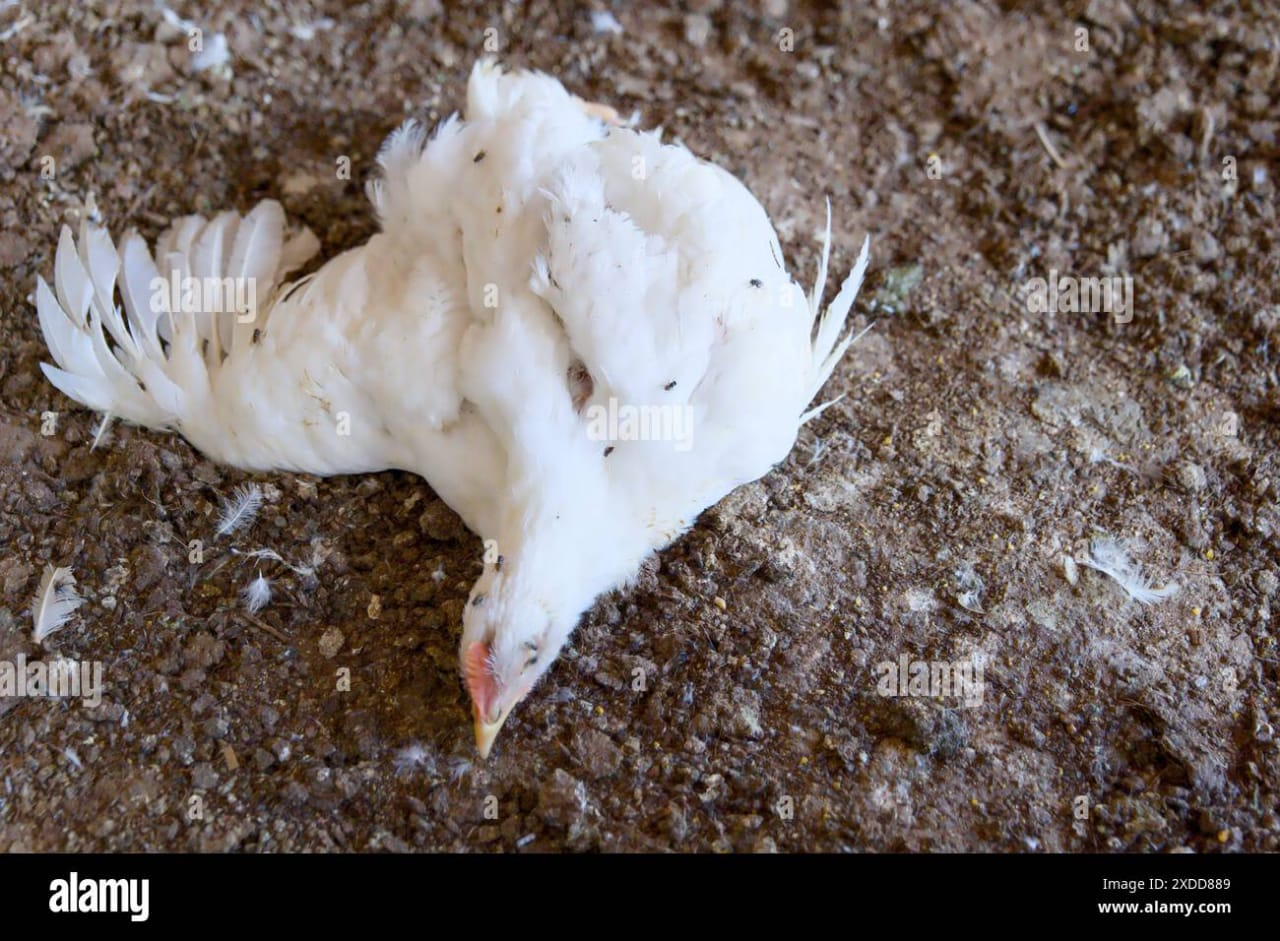Unhealthy: (168, 31, 850, 749)
